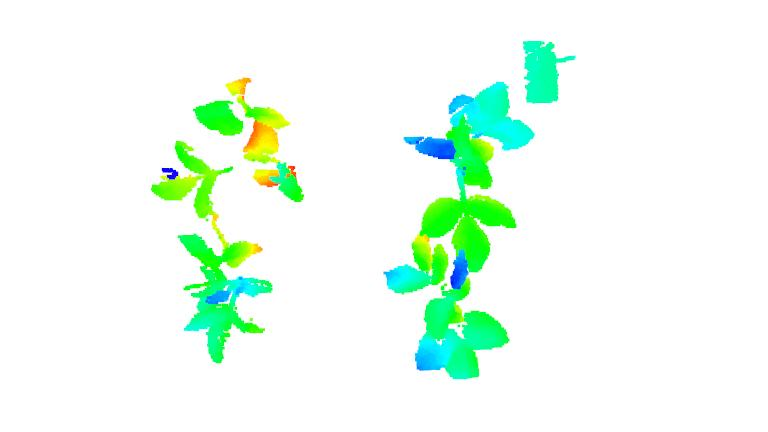mungbean: (398, 77, 537, 274), (150, 77, 308, 222), (379, 234, 514, 383), (176, 214, 275, 366)
